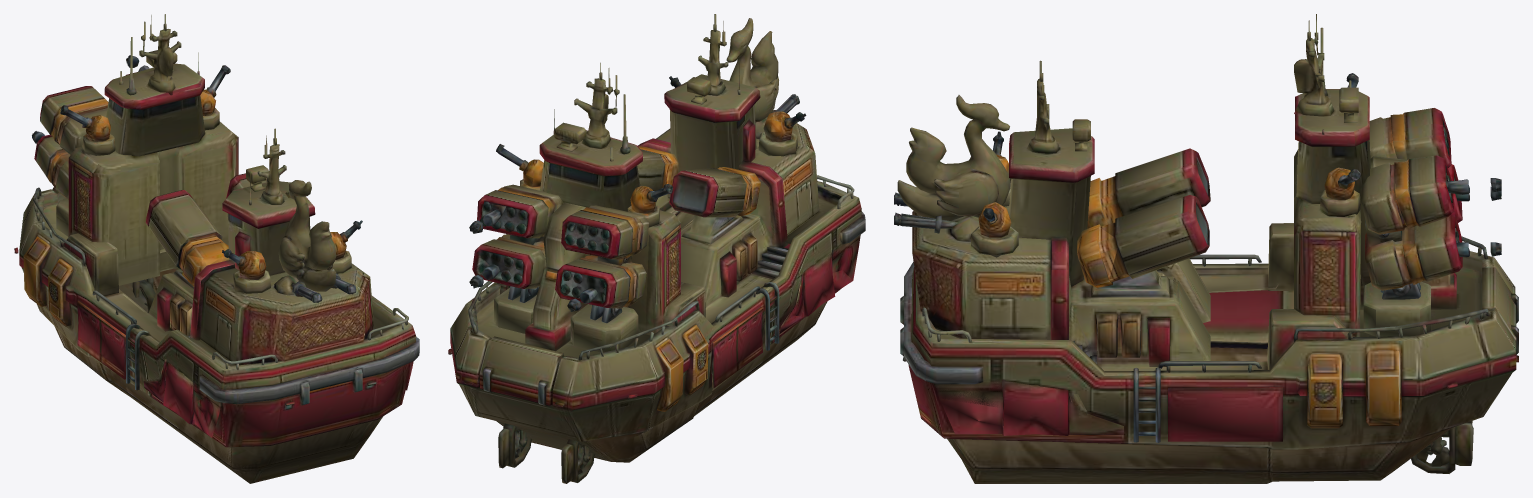
Rendered from channel_ferry.glb.
The picture shows the model from 3 angles, left to right: view 1: azimuth 30°, elevation 25°; view 2: azimuth 150°, elevation 25°; view 3: azimuth 270°, elevation 25°; orthographic projection. The views are drawn at different scales.
Parts seen in each view (by area): view 1: Body, Turret, Trim; view 2: Body, Turret, Trim; view 3: Body, Turret, Trim.
Part boxes in pixels (<box>): Body: <box>14,14,419,483</box>; Turret: <box>32,55,149,234</box>; Trim: <box>23,92,332,318</box>; Body: <box>448,14,865,483</box>; Turret: <box>468,150,672,352</box>; Trim: <box>521,111,788,411</box>; Body: <box>894,14,1518,483</box>; Turret: <box>1354,108,1501,336</box>; Trim: <box>989,155,1398,425</box>.
Size of the model in its own units: 6.59 by 10.87 by 14.21.
2 materials, 2 textured.
